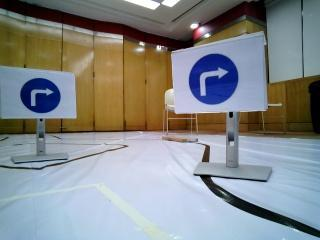right: (168, 52, 264, 108), (2, 69, 77, 118)
